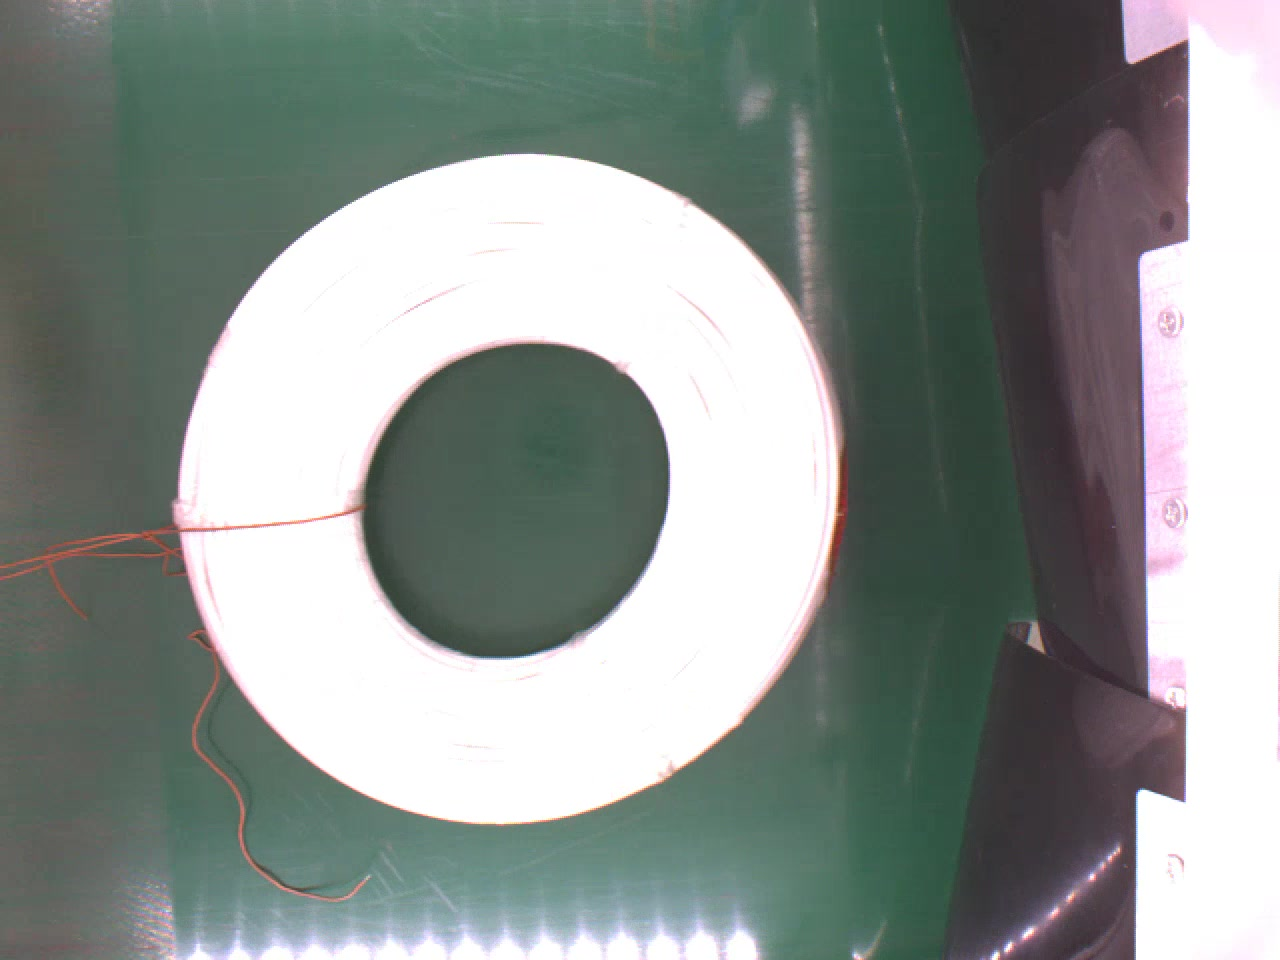white: (172, 153, 850, 824)
